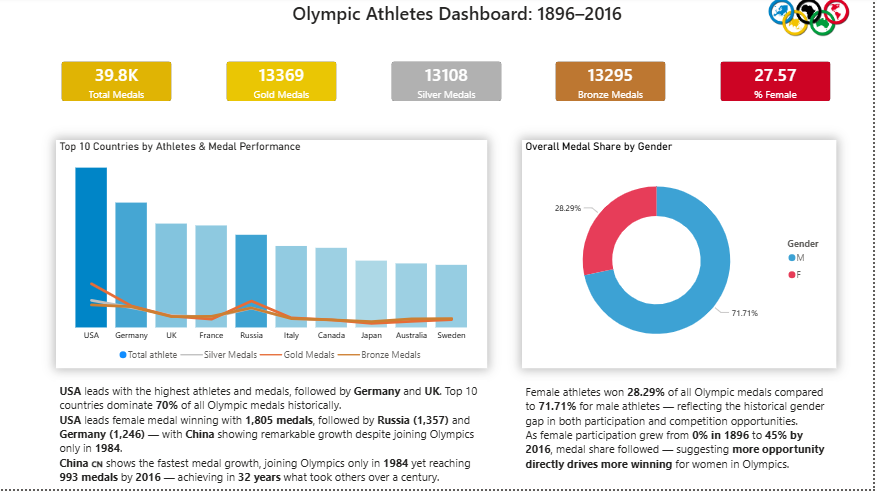

The page's visual inventory and layout, read from the dashboard file:
{"tool":"powerbi","page":{"name":"Nations & Medals","canvas":[1280,720],"ordinal":1},"visuals":[{"type":"image","box":[1088.8,1.5,191.7,55.6],"z":0},{"type":"textbox","box":[424.4,0,531.2,57.1],"z":1000},{"type":"lineStackedColumnComboChart","title":"Top 10 Countries by Athletes & Medal Performance","fields":{"Category":["Olympics1896-2016.Modern_Country"],"Y":["Olympics1896-2016.Total athlete"],"Y2":["Olympics1896-2016.Silver Medals","Olympics1896-2016.Gold Medals","Olympics1896-2016.Bronze Medals"]},"box":[83.4,209.3,630.7,333.7],"z":2000},{"type":"donutChart","title":"Overall Medal Share by Gender","fields":{"Category":["Olympics1896-2016.Sex"],"Y":["Olympics1896-2016.Total Medals"]},"box":[765.4,209.3,459.5,333.7],"z":3000},{"type":"cardVisual","fields":{"Data":["Olympics1896-2016.Bronze Medals"]},"box":[806.7,86.3,177.1,74.6],"z":4000},{"type":"cardVisual","fields":{"Data":["Olympics1896-2016.Silver Medals"]},"box":[565.6,86.3,177.1,74.6],"z":5000},{"type":"cardVisual","fields":{"Data":["Olympics1896-2016.Total Medals"]},"box":[83.4,86,177.1,74.6],"z":6000},{"type":"cardVisual","fields":{"Data":["Olympics1896-2016.Gold Medals"]},"box":[324.5,86,177.1,74.6],"z":7000},{"type":"cardVisual","fields":{"Data":["Olympics1896-2016.% Female Participation"]},"box":[1047.8,86.3,177.1,74.6],"z":8000},{"type":"textbox","box":[83.4,560.5,630.7,158],"z":9000},{"type":"textbox","box":[765.4,562,459.5,158],"z":10000}]}

Visuals, with their boxes in screenshot pixels (x1, y1, x2, y2), scaled from the page's 1280x720 canvas onto the 877x493 screenshot:
image: (left=746, top=1, right=876, bottom=39)
textbox: (left=291, top=0, right=655, bottom=39)
"Top 10 Countries by Athletes & Medal Performance" lineStackedColumnComboChart: (left=57, top=143, right=489, bottom=372)
"Overall Medal Share by Gender" donutChart: (left=524, top=143, right=839, bottom=372)
cardVisual - Olympics1896-2016.Bronze Medals: (left=553, top=59, right=674, bottom=110)
cardVisual - Olympics1896-2016.Silver Medals: (left=388, top=59, right=509, bottom=110)
cardVisual - Olympics1896-2016.Total Medals: (left=57, top=59, right=178, bottom=110)
cardVisual - Olympics1896-2016.Gold Medals: (left=222, top=59, right=344, bottom=110)
cardVisual - Olympics1896-2016.% Female Participation: (left=718, top=59, right=839, bottom=110)
textbox: (left=57, top=384, right=489, bottom=492)
textbox: (left=524, top=385, right=839, bottom=492)
